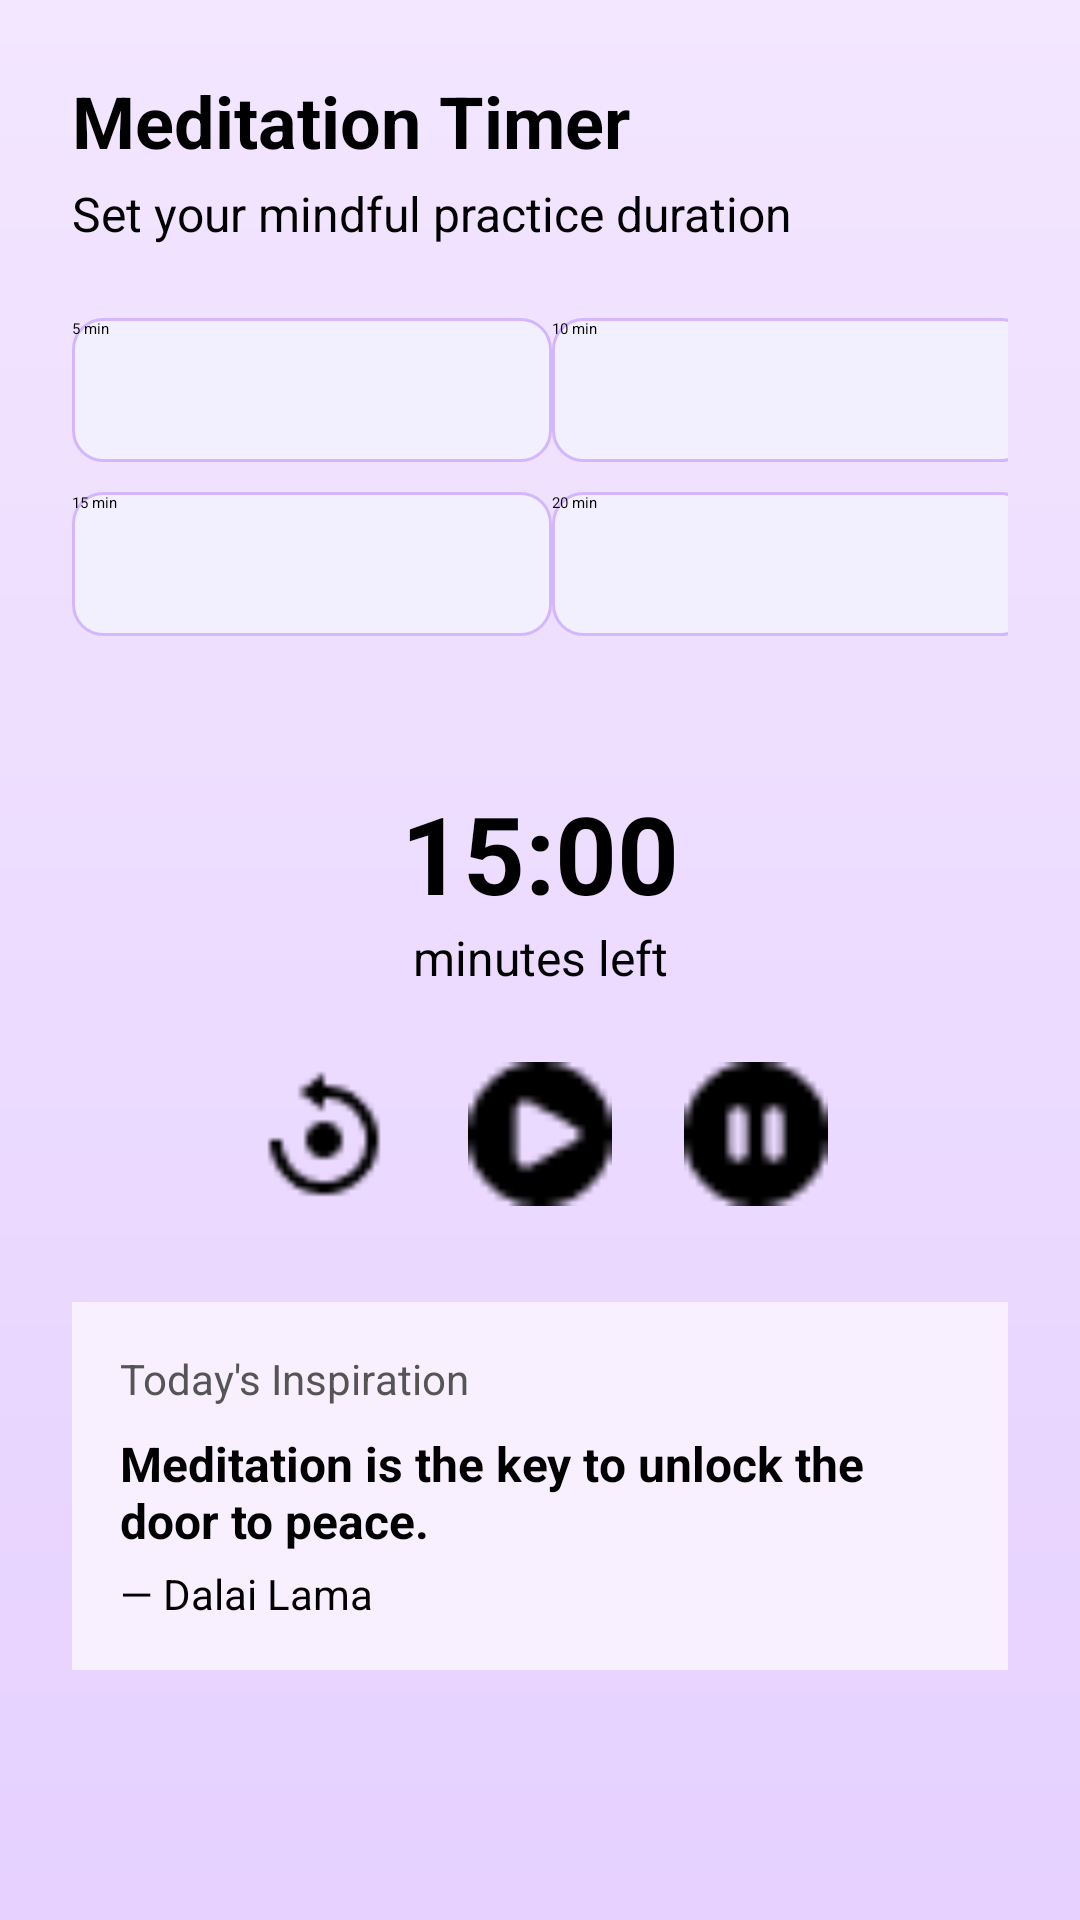

Named icons in this screenshot (1080*1920) and their bounding boxes, Rect(x1, y1, x2, y2):
Pause: Rect(684, 1062, 828, 1206)
Play: Rect(468, 1062, 612, 1206)
Restart: Rect(268, 1072, 380, 1196)
